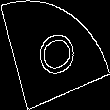O_W: (29, 26, 81, 84)
